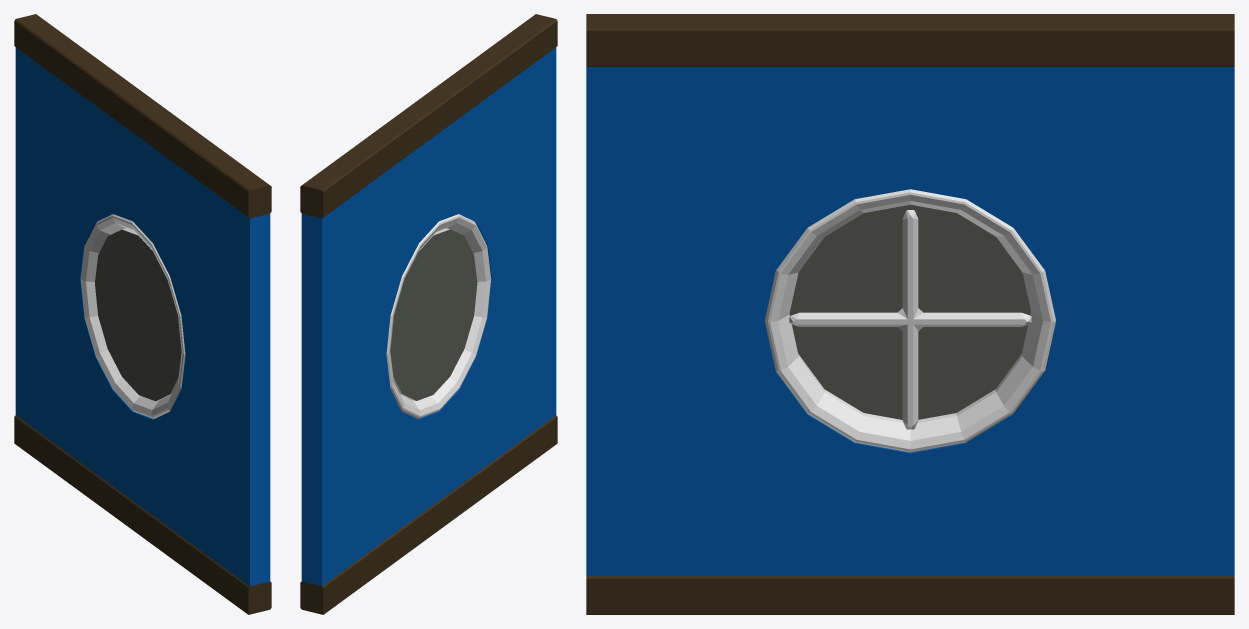
File: Window_Tile.fbx
3 renders of one model, left to right at view 1: azimuth 30°, elevation 25°; view 2: azimuth 150°, elevation 25°; view 3: azimuth 270°, elevation 25°, orthographic. The views are drawn at different scales.
Visible parts, largest first — view 1: Window; view 2: Window; view 3: Window.
Part boxes in pixels (x1=…): Window: x1=14, y1=14, x2=271, y2=614; Window: x1=300, y1=14, x2=557, y2=614; Window: x1=586, y1=14, x2=1234, y2=614.
Size of the model in its own units: 34 by 600 by 600.
